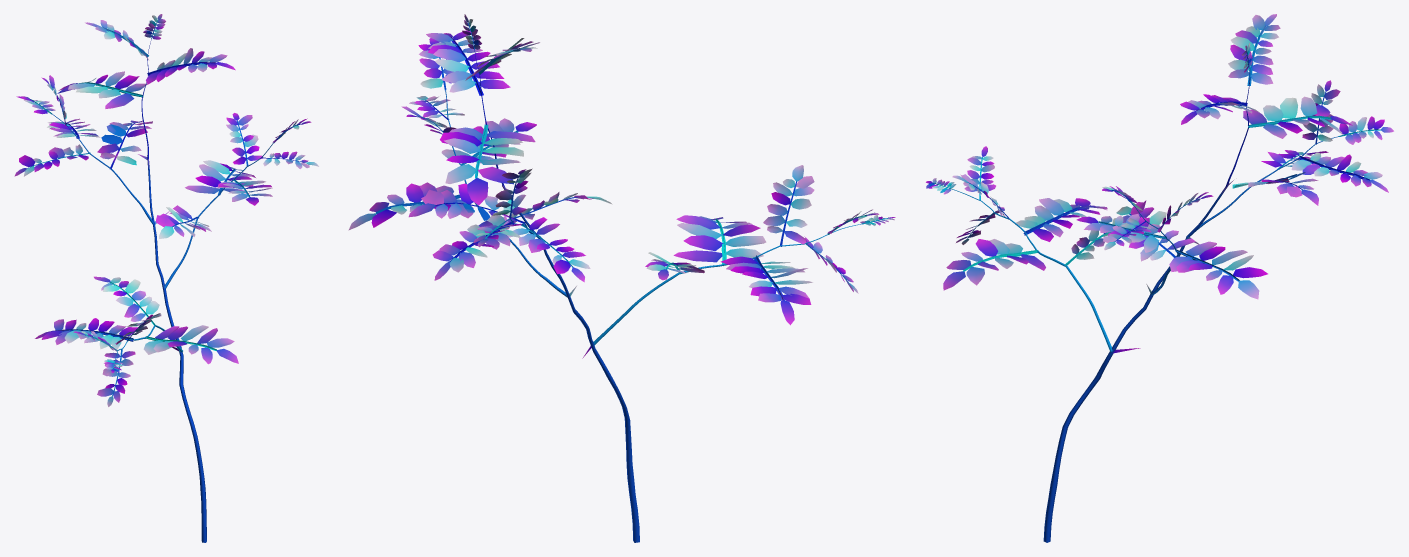
Rendered from Black_Locust_wdvhberja_Mid_wdvhberja_VarG_LOD0.fbx.
The picture shows the model from 3 angles, left to right: view 1: azimuth 30°, elevation 25°; view 2: azimuth 150°, elevation 25°; view 3: azimuth 270°, elevation 25°; orthographic projection. The views are drawn at different scales.
Visible parts, largest first — view 1: _shnj_VarG_LOD1; view 2: _shnj_VarG_LOD1; view 3: _shnj_VarG_LOD1.
Part boxes in pixels (box(x1,y1,x2,y2)): _shnj_VarG_LOD1: box(14, 14, 318, 542); _shnj_VarG_LOD1: box(348, 14, 895, 542); _shnj_VarG_LOD1: box(926, 14, 1393, 542).
Size of the model in its own units: 59.01 by 85.8 by 70.08.
